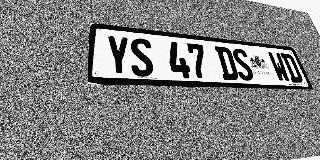4: (166, 41, 192, 79)
7: (185, 43, 211, 79)
D: (214, 46, 240, 80), (280, 53, 304, 83)
S: (129, 37, 155, 77), (230, 48, 256, 81)
W: (267, 52, 292, 82)
Y: (106, 35, 131, 76)
